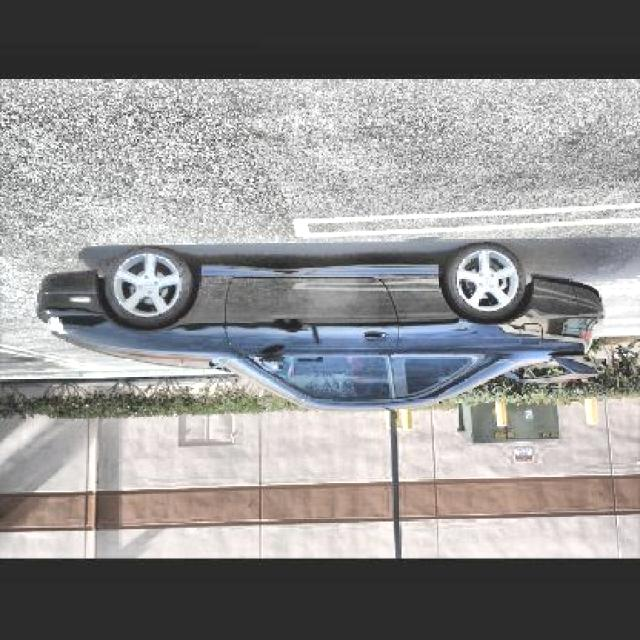black: (26, 238, 595, 415)
